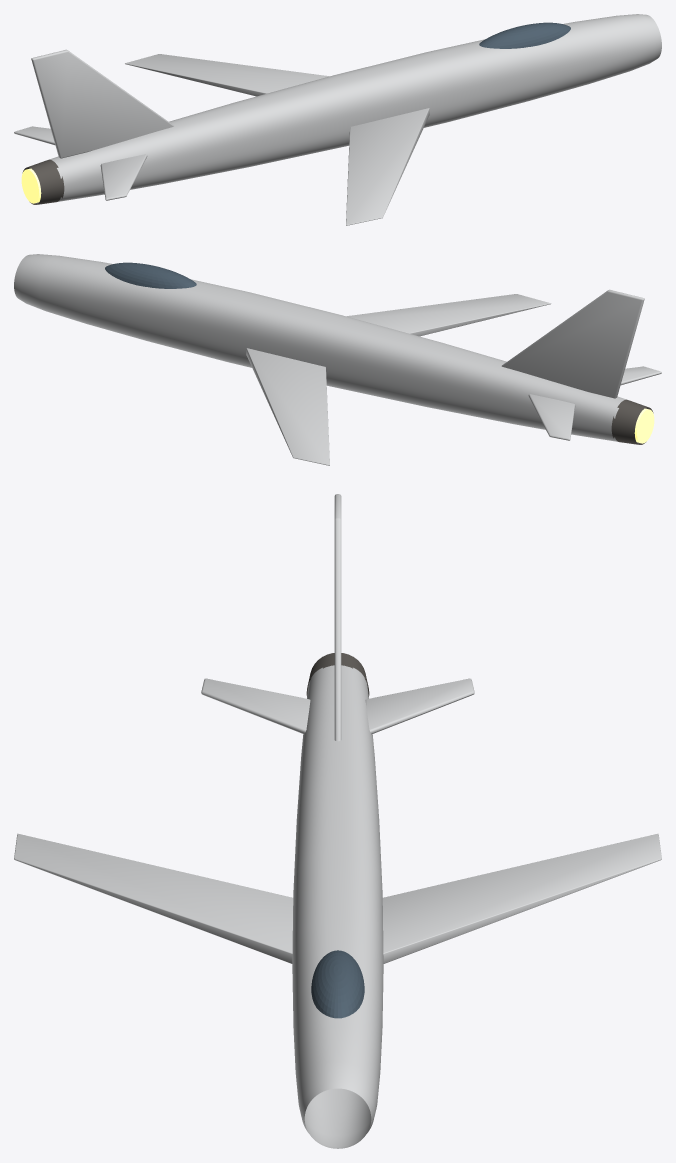
Rendered from mig.glb.
3 renders of one model, top to bottom at view 1: azimuth 30°, elevation 25°; view 2: azimuth 150°, elevation 25°; view 3: azimuth 270°, elevation 25°, orthographic. The views are drawn at different scales.
Parts seen in each view (by area): view 1: body, burner; view 2: body, burner; view 3: body.
Part boxes in pixels (x1,y1,x2,y2): body: (14, 14, 661, 225); burner: (21, 168, 41, 203); body: (14, 254, 661, 465); burner: (634, 408, 654, 443); body: (14, 494, 661, 1148).
Size of the model in its own units: 15.53 by 3.81 by 9.7.
